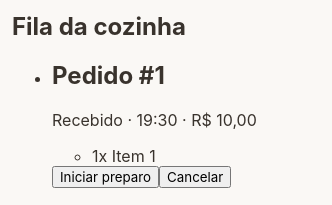
Test: Cozinha › ao clicar, envia o novo status e recarrega a fila
The image size is (332, 205).
Click the button "Iniciar preparo" at coordinates (106, 177), box [52,166,159,188]
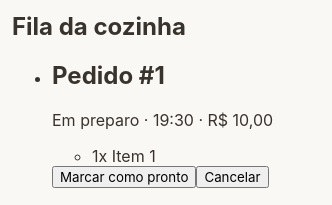
Expected: the button "Marcar como pronto" is shown, [52,166,196,188]
